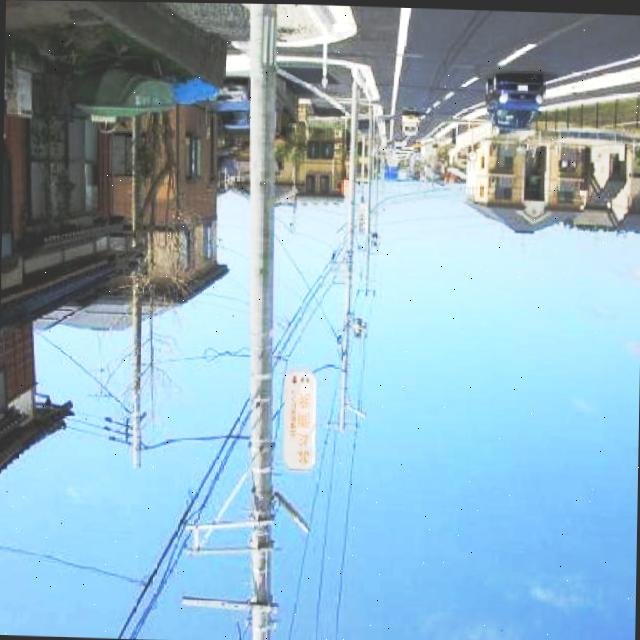poles: (182, 2, 284, 640), (125, 117, 147, 467)
wires: (99, 368, 257, 633), (288, 424, 371, 640), (272, 242, 339, 356)
